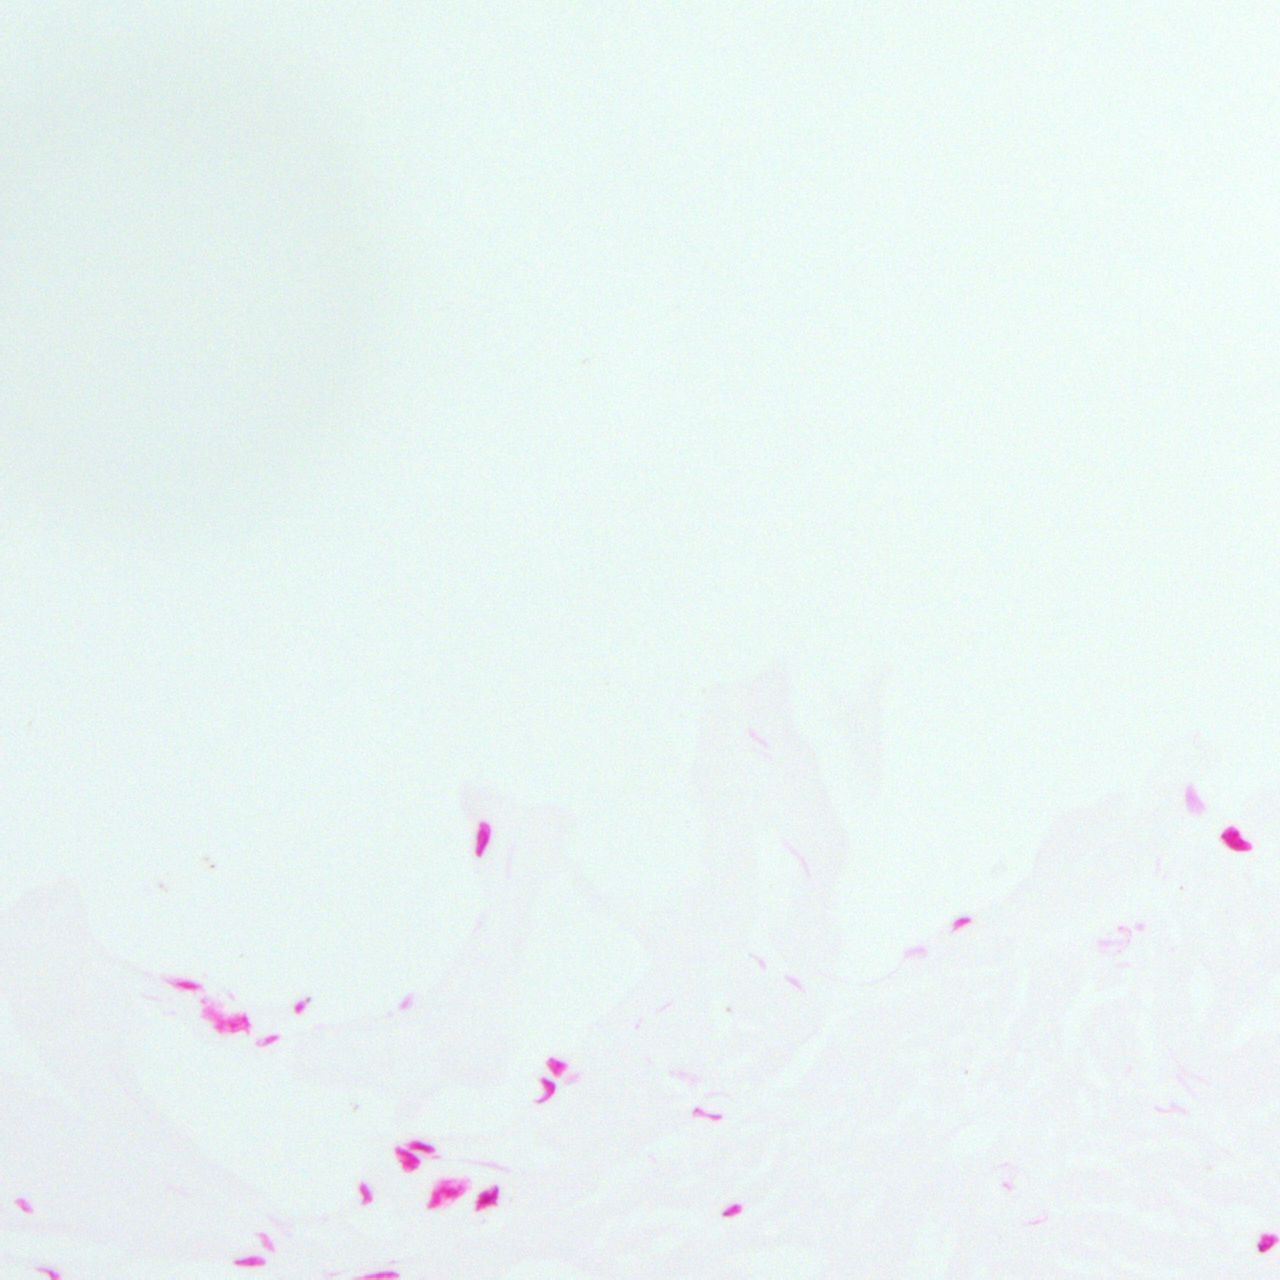nucleus-FG: (389, 1143, 420, 1173), (475, 1185, 498, 1210)
